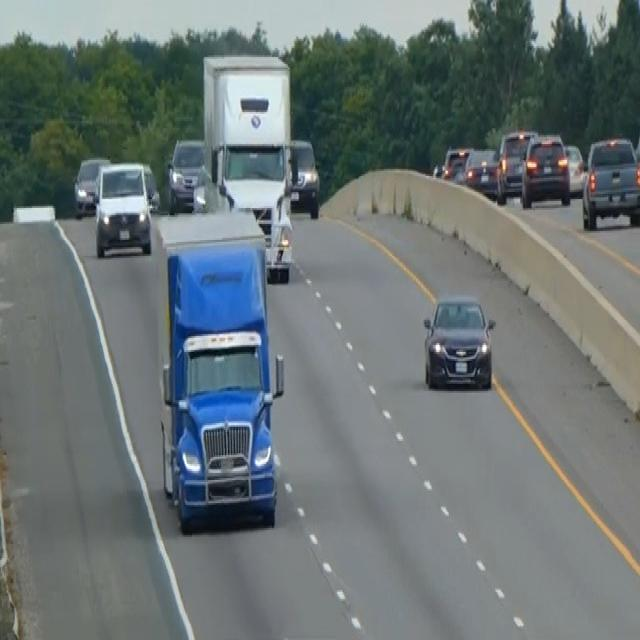car: (421, 292, 496, 391), (581, 133, 639, 230), (520, 132, 570, 208), (495, 126, 536, 201), (166, 135, 205, 212), (286, 135, 320, 217), (72, 155, 109, 217), (463, 146, 500, 197), (563, 140, 585, 196), (440, 144, 470, 181), (140, 160, 160, 212)
lorry: (151, 210, 284, 533)
minivan: (93, 158, 152, 258)
